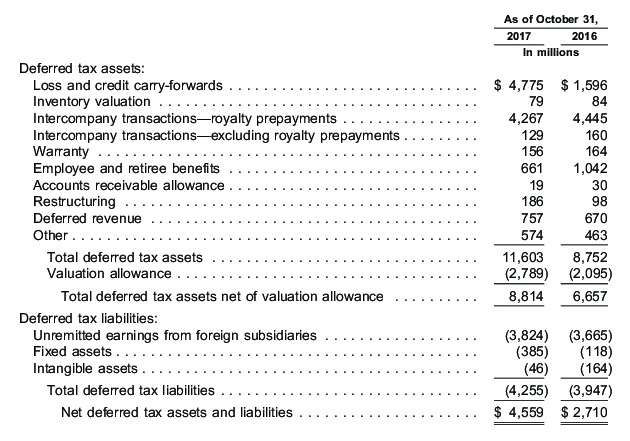table: (0, 0, 630, 441)
